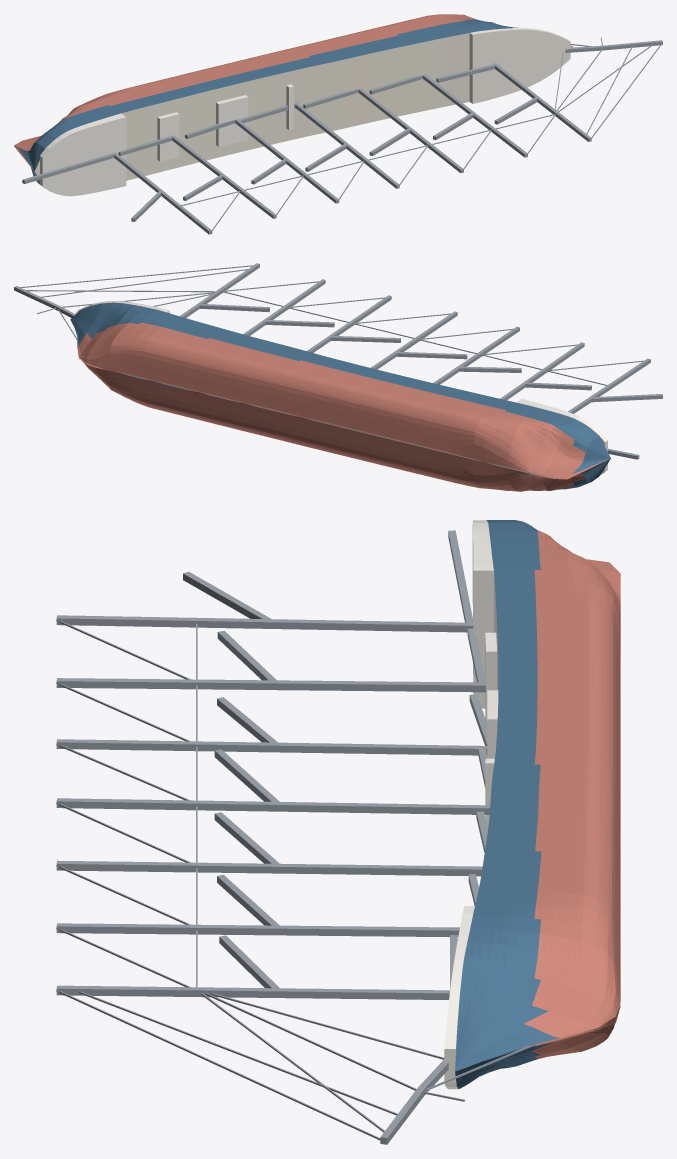
Rendered from thomas-w-lawson-lines.glb.
3 renders of one model, top to bottom at view 1: azimuth 30°, elevation 25°; view 2: azimuth 150°, elevation 25°; view 3: azimuth 270°, elevation 25°, orthographic. The views are drawn at different scales.
Parts seen in each view (by area): view 1: Thomas W. Lawson; view 2: Thomas W. Lawson; view 3: Thomas W. Lawson.
Part boxes in pixels (x1,y1,x2,y2): Thomas W. Lawson: (14,14,662,234); Thomas W. Lawson: (14,263,662,491); Thomas W. Lawson: (56,520,620,1144).
Bounding box in the file's own units: 2.34 × 0.2479 × 0.9189.
